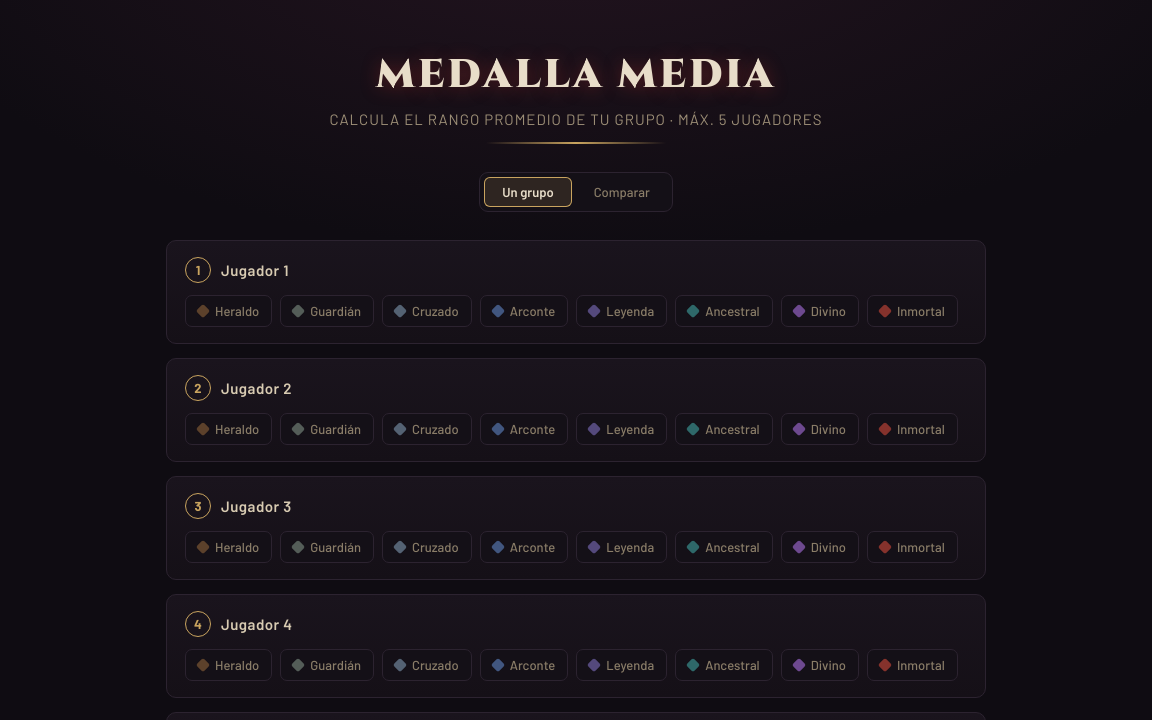
App › shows the average once a medal is picked
Click the 1st button "Leyenda" at (622, 311), box [576, 295, 667, 327]
(page scrolled)
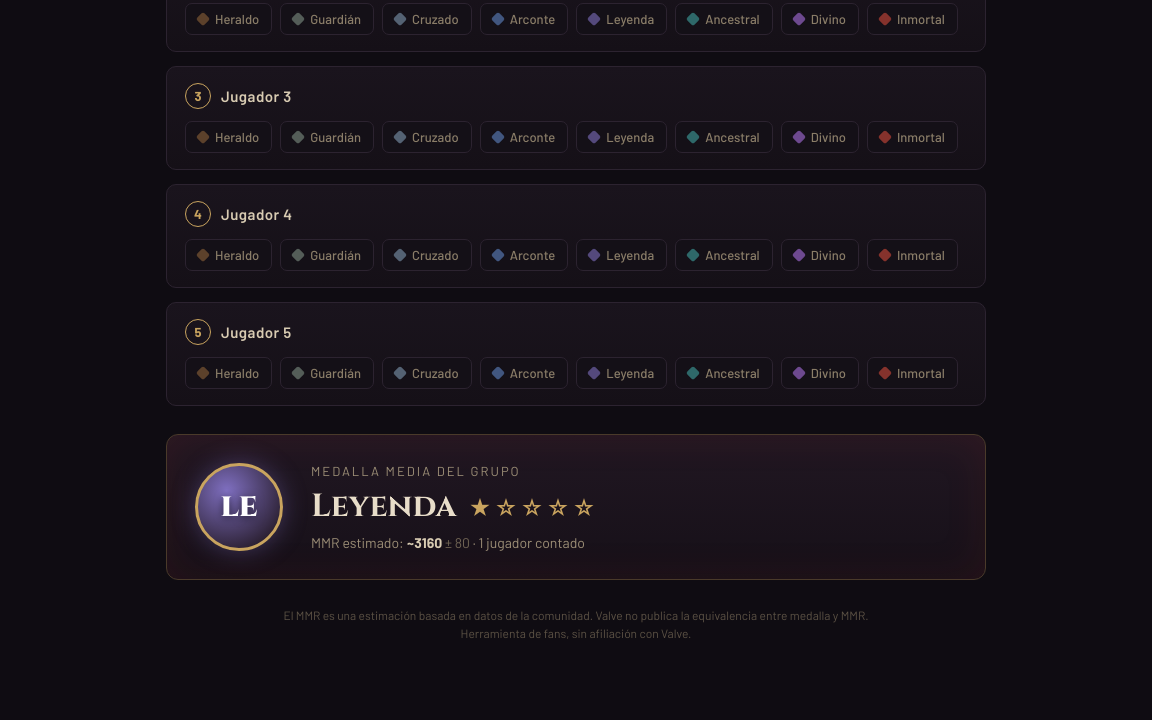
Expected: the text "Leyenda" is shown, [311, 485, 456, 528]
Expected: the text "MMR estimado: ~3160 ± 80 · 1 jugador contado" is shown, [311, 534, 585, 551]
